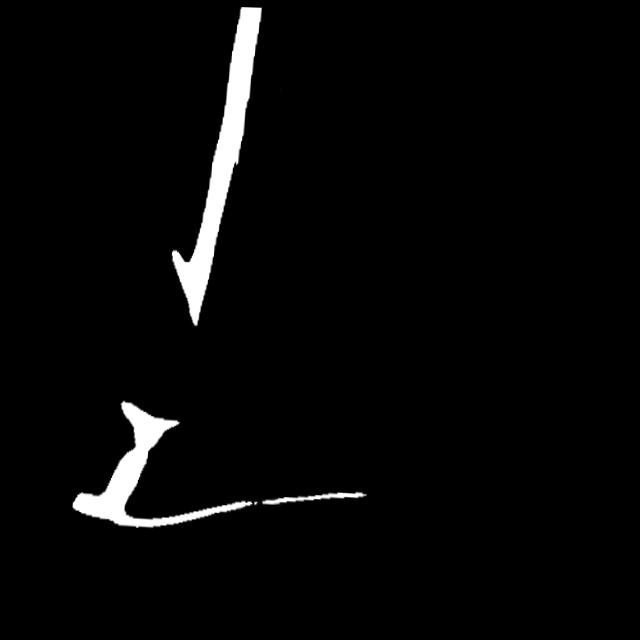inf: (246, 485, 281, 518)
